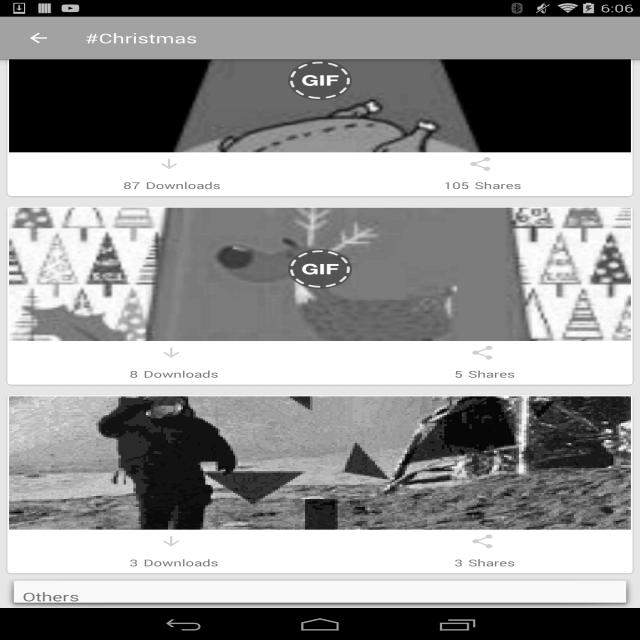ImageButton: (20, 26, 66, 50), (460, 343, 513, 363), (465, 531, 508, 552), (154, 532, 192, 550), (153, 344, 195, 360)
ImageView: (5, 201, 630, 339), (11, 395, 615, 528), (11, 62, 622, 154)
TextView: (78, 24, 238, 48)
